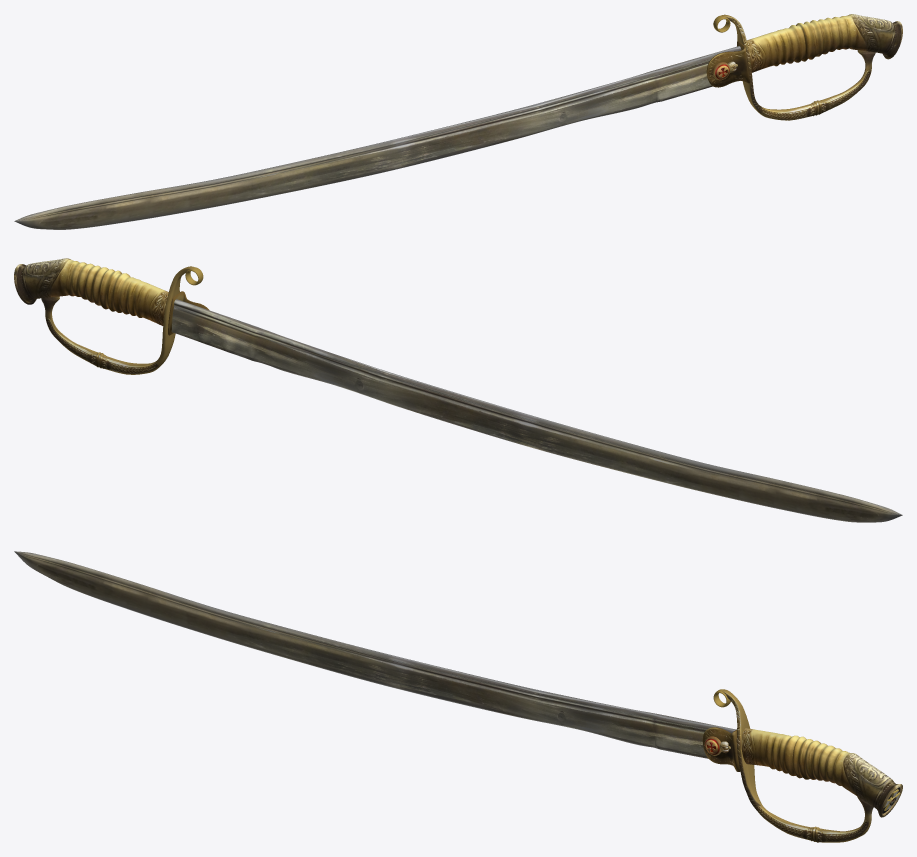
The model's file is dragoon_officers_sabre_mod._18811909_award.glb.
3 views of the same model, one above another, from view 1: azimuth 30°, elevation 25°; view 2: azimuth 150°, elevation 25°; view 3: azimuth 330°, elevation 25° (orthographic). The views are drawn at different scales.
Visible parts, largest first — view 1: ____-NURBS, Object_22, Object_20, Object_16; view 2: ____-NURBS, Object_22, Object_20; view 3: ____-NURBS, Object_22, Object_20, Object_16.
Part boxes in pixels (x1,y1,x2,y2): ____-NURBS: [14, 46, 741, 229]; Object_22: [747, 14, 902, 72]; Object_20: [721, 14, 875, 120]; Object_16: [706, 41, 749, 87]; ____-NURBS: [171, 299, 902, 522]; Object_22: [14, 258, 168, 325]; Object_20: [41, 266, 195, 374]; ____-NURBS: [14, 551, 736, 758]; Object_22: [741, 728, 902, 817]; Object_20: [721, 689, 873, 842]; Object_16: [702, 727, 740, 771].
Size of the model in its own units: 206 by 27.11 by 14.14.
10 materials, 10 textured.
